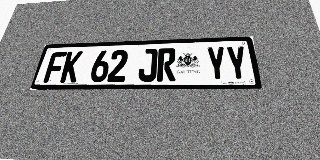2: (107, 50, 129, 82)
6: (89, 50, 112, 82)
F: (43, 52, 67, 83)
J: (138, 49, 158, 82)
K: (59, 51, 83, 83)
R: (157, 48, 176, 82)
Y: (225, 46, 250, 81), (206, 46, 228, 81)
